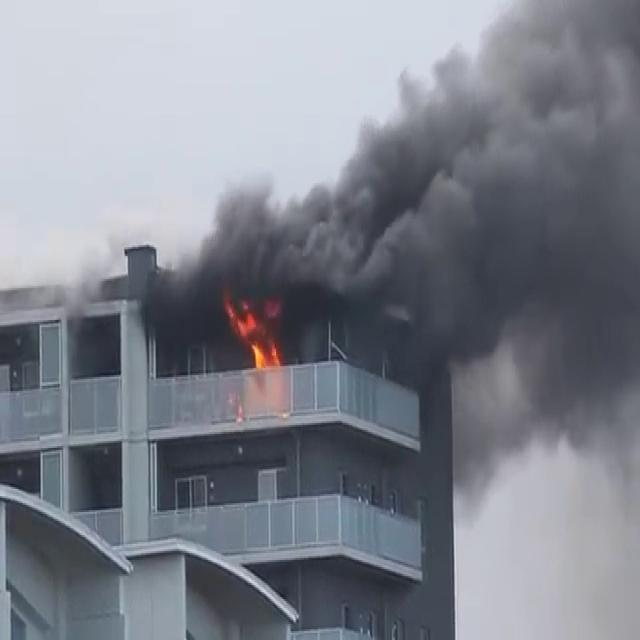Fire: (222, 295, 282, 373)
Smoke: (160, 1, 640, 440)
